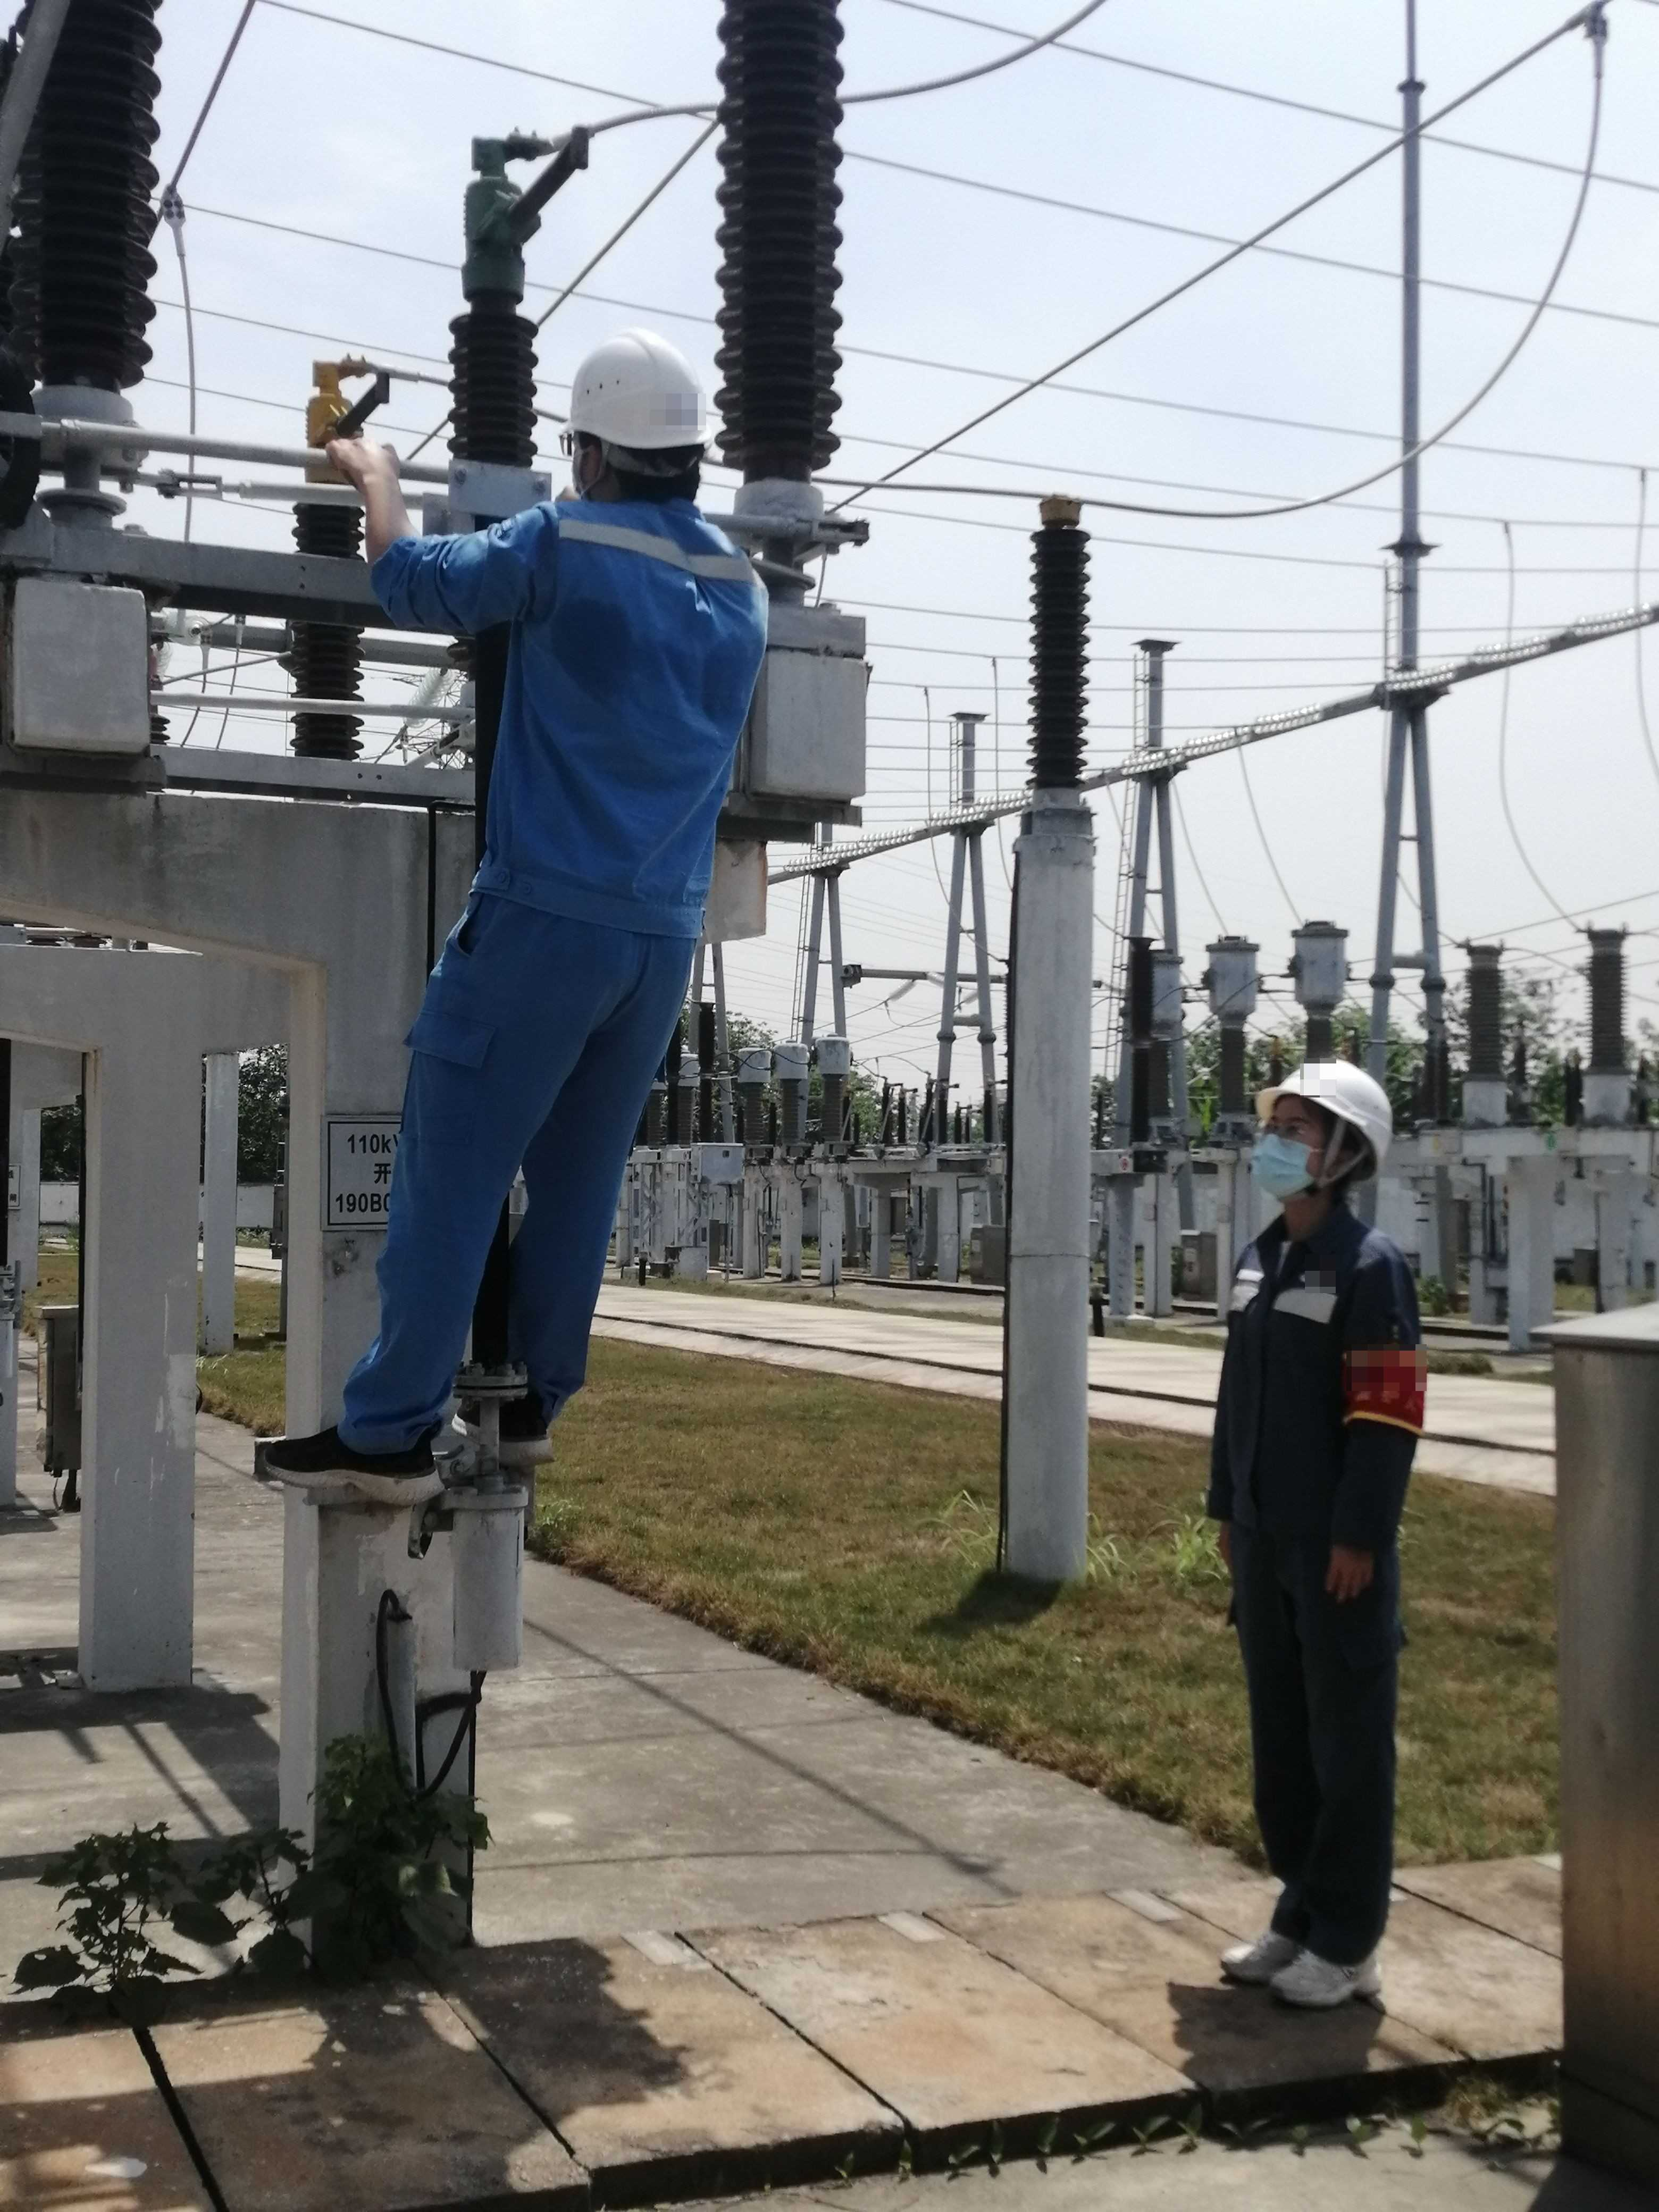downsuit: (359, 958, 695, 1435), (1236, 1561, 1401, 1951)
upsuit: (394, 491, 775, 925), (1215, 1219, 1419, 1557)
wrongtop: (326, 430, 448, 585)
